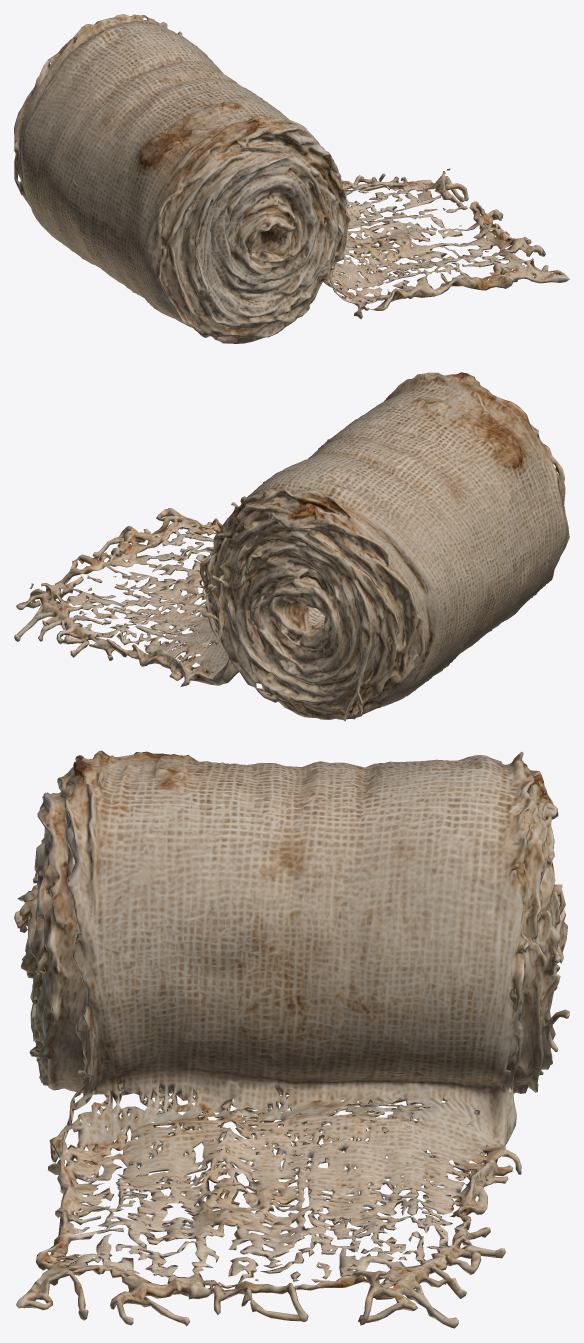
Rendered from BandageRoll.fbx.
The picture shows the model from 3 angles, top to bottom: view 1: azimuth 30°, elevation 25°; view 2: azimuth 150°, elevation 25°; view 3: azimuth 270°, elevation 25°; orthographic projection. The views are drawn at different scales.
Visible parts, largest first — view 1: texture_mapping; view 2: texture_mapping; view 3: texture_mapping.
Part boxes in pixels (box(x1,y1,x2,y2)): texture_mapping: box(14, 14, 569, 343); texture_mapping: box(14, 372, 569, 721); texture_mapping: box(14, 750, 569, 1328).
Size of the model in its own units: 0.9998 by 0.7625 by 0.5296.
Materials: 1 (1 with a texture image).
